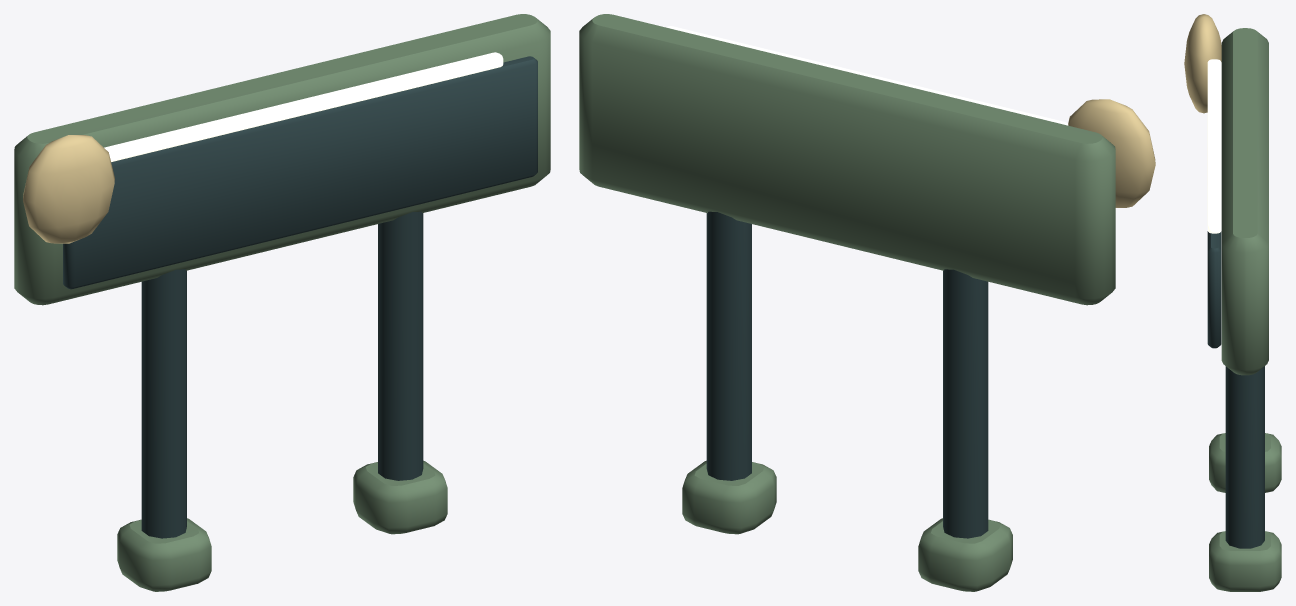
The model's file is sign_3.glb.
The picture shows the model from 3 angles, left to right: view 1: azimuth 30°, elevation 25°; view 2: azimuth 150°, elevation 25°; view 3: azimuth 270°, elevation 25°; orthographic projection. The views are drawn at different scales.
Parts seen in each view (by area): view 1: Sign; view 2: Sign; view 3: Sign.
Boxes of the visible parts, <box> form: Sign: <box>14,14,550,591</box>; Sign: <box>579,14,1155,591</box>; Sign: <box>1184,14,1281,591</box>.
Size of the model in its own units: 2.74 by 2.33 by 0.495.
